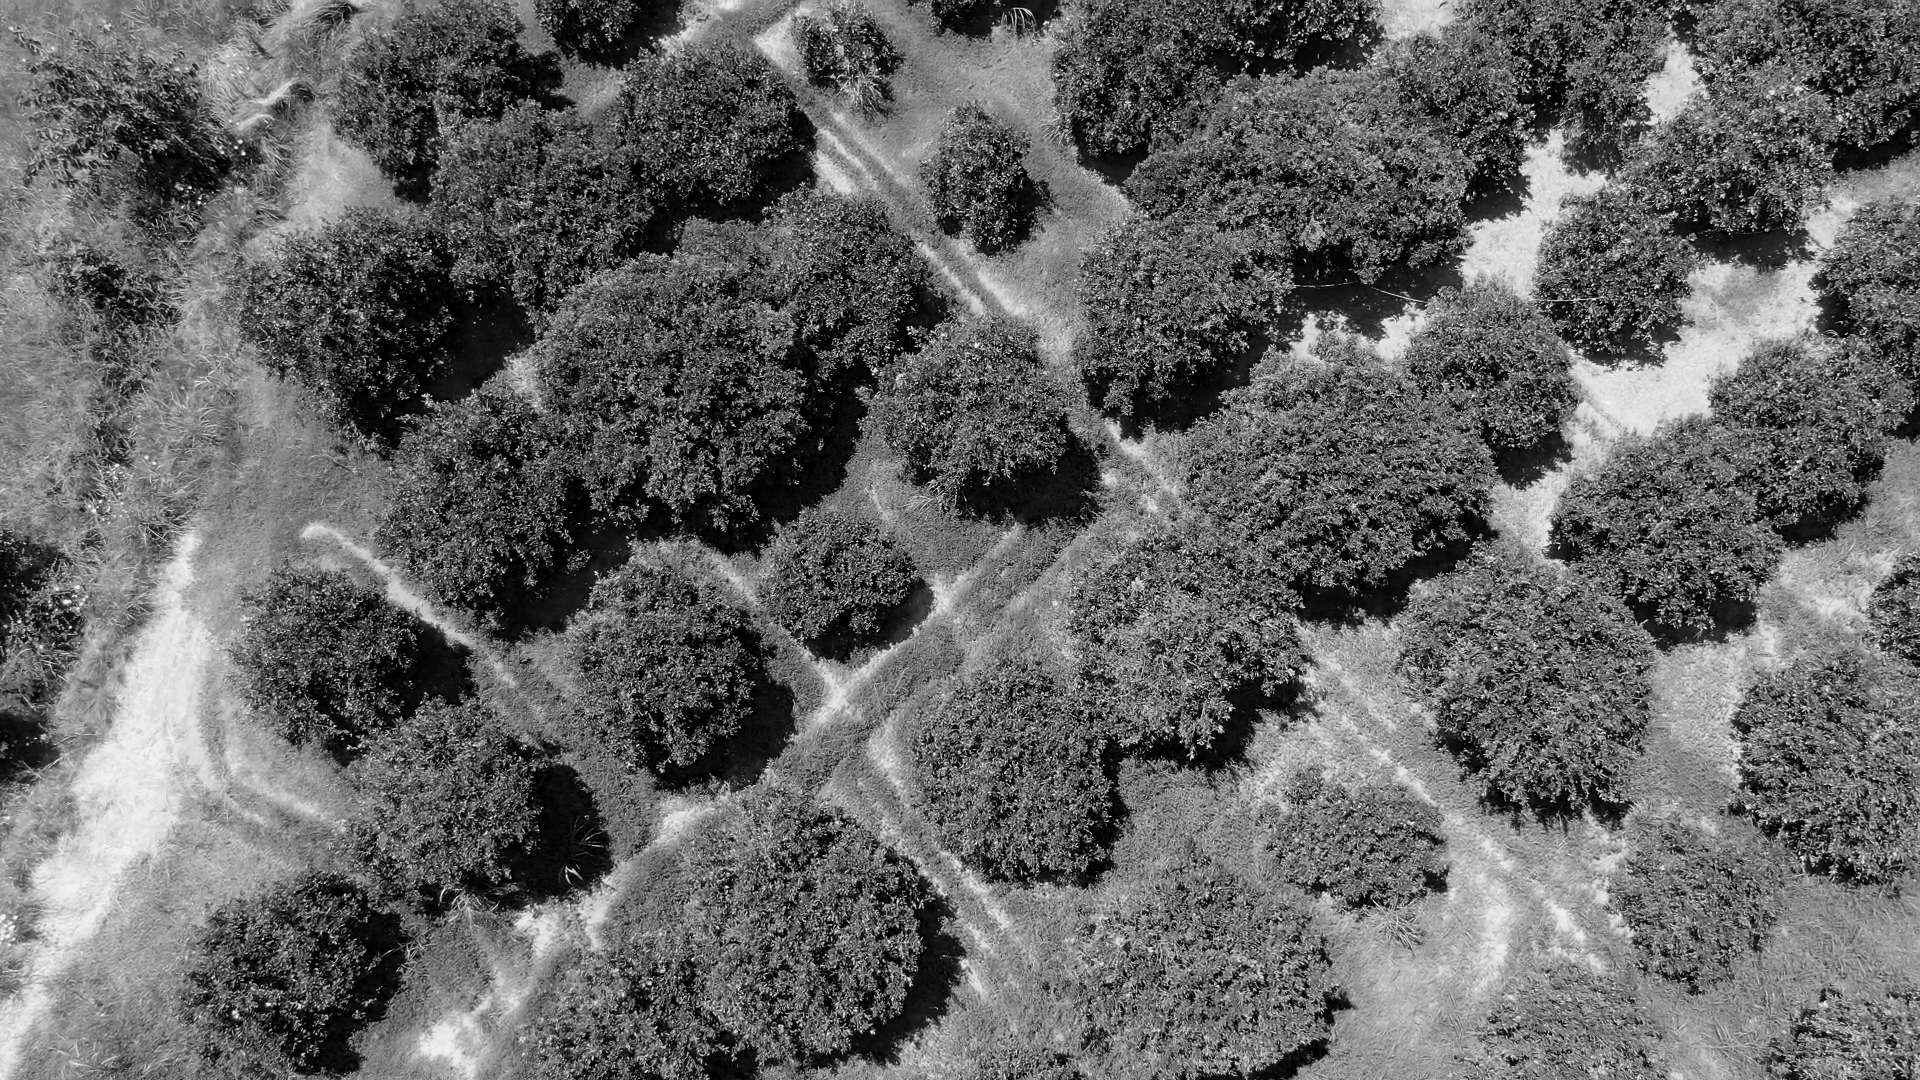TREE: (1185, 328, 1497, 595), (529, 247, 814, 530), (1122, 65, 1476, 286), (675, 787, 942, 1067), (1396, 535, 1656, 804), (1077, 837, 1344, 1080), (1065, 526, 1317, 757), (1547, 411, 1788, 636), (423, 95, 655, 309), (906, 654, 1113, 884), (1073, 212, 1288, 417), (371, 389, 574, 604), (1705, 326, 1915, 526), (1734, 659, 1920, 885), (239, 206, 452, 401), (178, 866, 380, 1068), (345, 691, 545, 895), (1619, 57, 1836, 236), (576, 559, 757, 773), (320, 1, 524, 187), (225, 559, 423, 744), (876, 315, 1069, 495), (1689, 1, 1920, 150), (1404, 266, 1585, 447), (615, 38, 807, 204), (756, 181, 926, 367), (1605, 825, 1778, 993), (1364, 32, 1538, 195), (1534, 185, 1700, 353), (1255, 773, 1451, 914), (1466, 957, 1665, 1080), (1050, 1, 1207, 157), (531, 952, 713, 1080), (753, 502, 920, 641), (1452, 1, 1669, 98), (1815, 200, 1920, 369), (918, 99, 1031, 247), (1756, 984, 1920, 1080), (1187, 1, 1383, 61), (1563, 50, 1654, 146), (789, 11, 899, 78), (1859, 553, 1920, 665), (535, 1, 640, 54)
